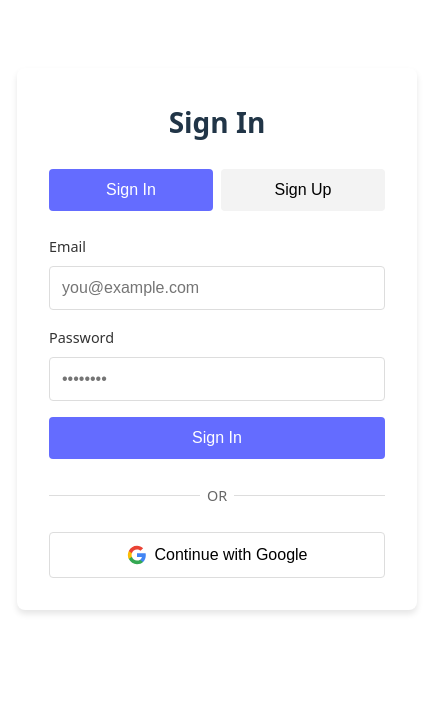
LoginPage › handles Google sign-in popup blocked error
Click the button "Continue with Google" at (217, 555), box [49,532,385,578]
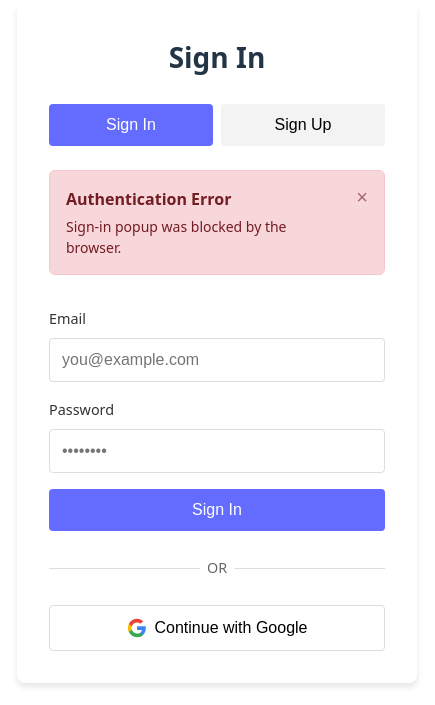
Result: the text "Sign-in popup was blocked by the browser." is shown at [66,217,286,257]
